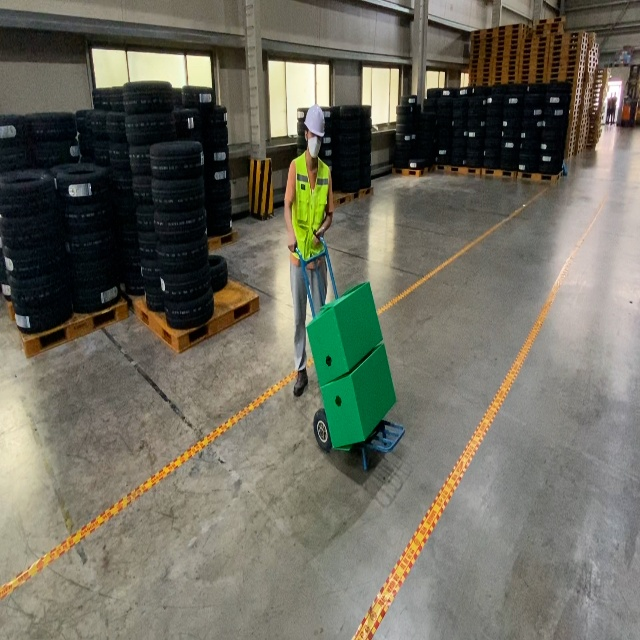Box: (320, 343, 396, 451), (306, 281, 382, 385)
Worker: (284, 105, 333, 397)
